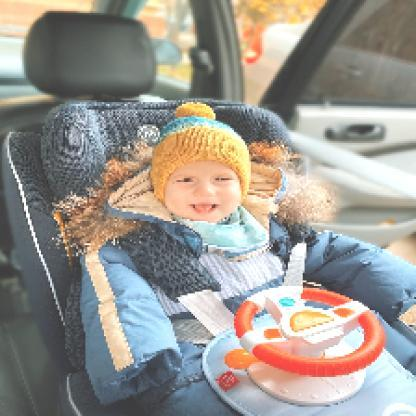child: (79, 101, 415, 415)
